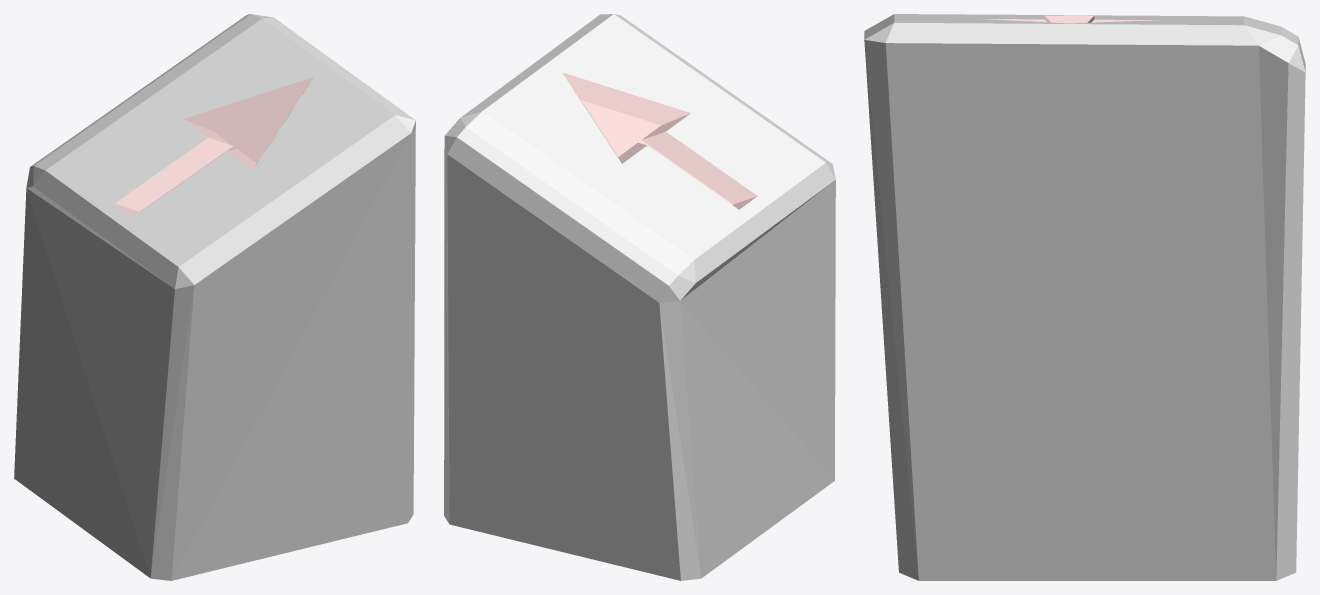
The model's file is button_up.fbx.
The picture shows the model from 3 angles, left to right: view 1: azimuth 30°, elevation 25°; view 2: azimuth 150°, elevation 25°; view 3: azimuth 270°, elevation 25°; orthographic projection. The views are drawn at different scales.
Parts seen in each view (by area): view 1: StartPost; view 2: StartPost; view 3: StartPost.
Boxes of the visible parts, bbox=[...] form: StartPost: bbox=[14, 14, 415, 580]; StartPost: bbox=[444, 14, 835, 580]; StartPost: bbox=[864, 14, 1305, 580].
Bounding box in the file's own units: 7874 × 11821 × 8747.
